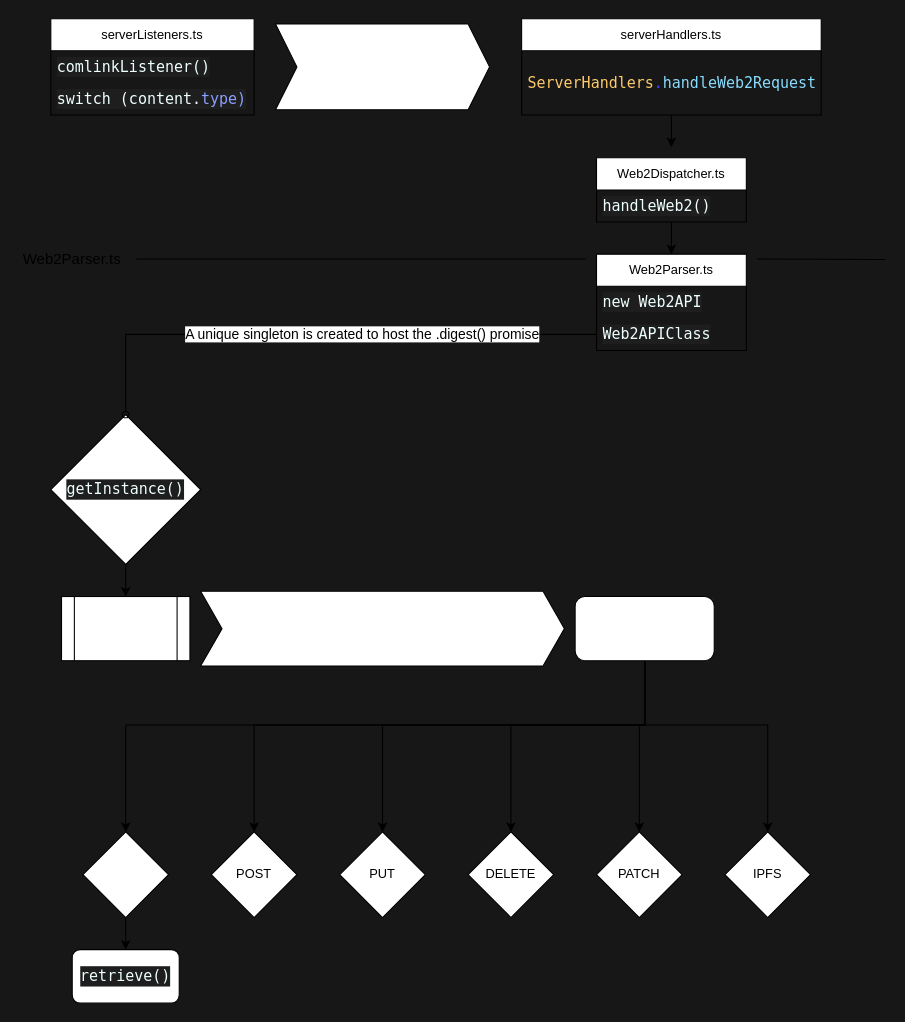
The diagram is 905 pixels wide and 1022 high, and some of its shapes have lost their labels. Each missing label, with the centre of its shape:
case " web2Request ": (x=382, y=66)
constructor: (x=125, y=628)
GET: (x=125, y=874)
switch ( action ): (x=644, y=628)
this . digestedPromise = this . digest (): (x=382, y=628)
